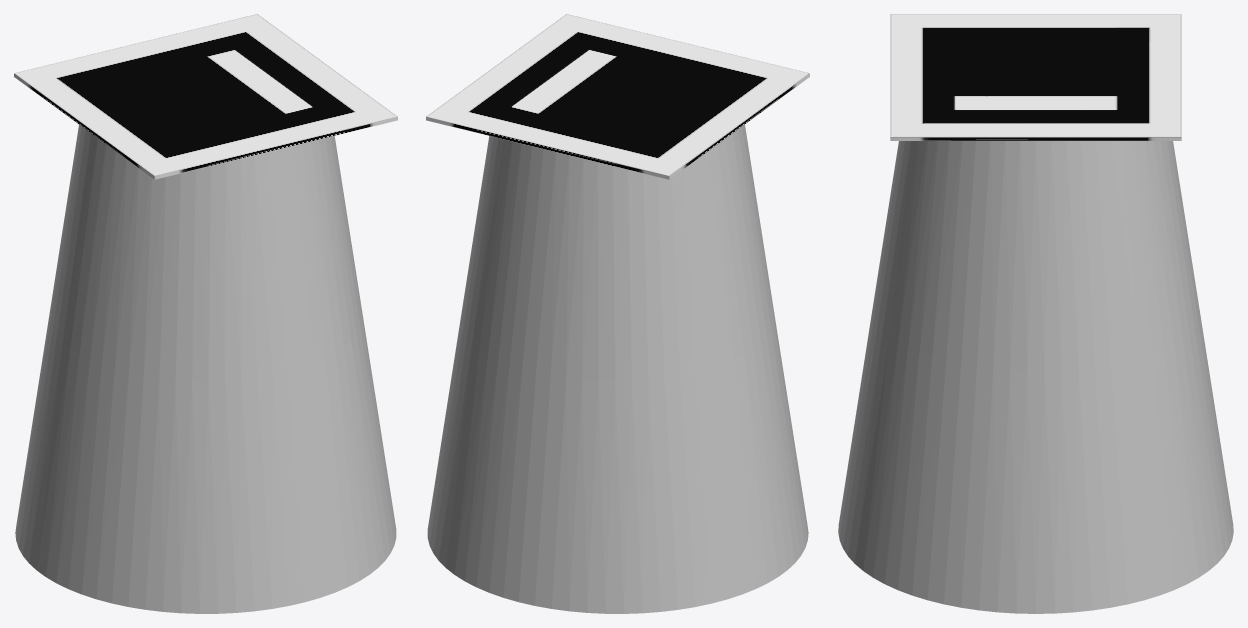
File: cup_aruco_0.dae
3 views of the same model, side by side, from view 1: azimuth 30°, elevation 25°; view 2: azimuth 150°, elevation 25°; view 3: azimuth 270°, elevation 25° (orthographic). The views are drawn at different scales.
Visible parts, largest first — view 1: Cup_0, Cube; view 2: Cup_0, Cube; view 3: Cup_0, Cube.
Boxes of the visible parts, box(x1,y1,x2,y2) form: Cup_0: box(15, 125, 396, 613); Cube: box(14, 14, 397, 179); Cup_0: box(427, 125, 808, 613); Cube: box(426, 14, 809, 179); Cup_0: box(838, 141, 1233, 613); Cube: box(890, 14, 1181, 140).
Bounding box in the file's own units: 0.0949 × 0.095 × 0.1205.
Materials: 1 (1 with a texture image).
